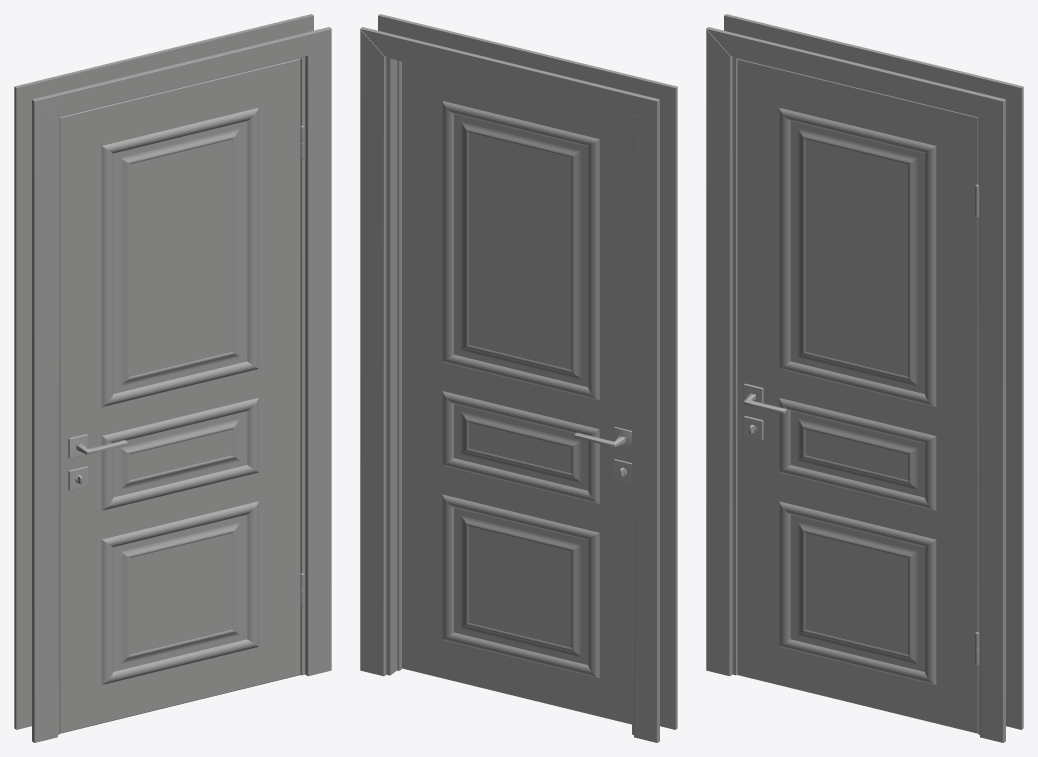
The model's file is Door (5).glb.
The picture shows the model from 3 angles, left to right: view 1: azimuth 30°, elevation 25°; view 2: azimuth 150°, elevation 25°; view 3: azimuth 330°, elevation 25°; orthographic projection.
Parts seen in each view (by area): view 1: door_2, door_2.002; view 2: door_2, door_2.002; view 3: door_2, door_2.002.
Part boxes in pixels (box(x1,y1,x2,y2)): door_2: box(14, 14, 331, 742); door_2.002: box(68, 434, 127, 490); door_2: box(360, 14, 677, 742); door_2.002: box(574, 427, 631, 483); door_2: box(706, 14, 1023, 742); door_2.002: box(743, 383, 786, 440).
Size of the model in its own units: 1.11 by 2.29 by 0.1829.
2 materials, 1 textured.
